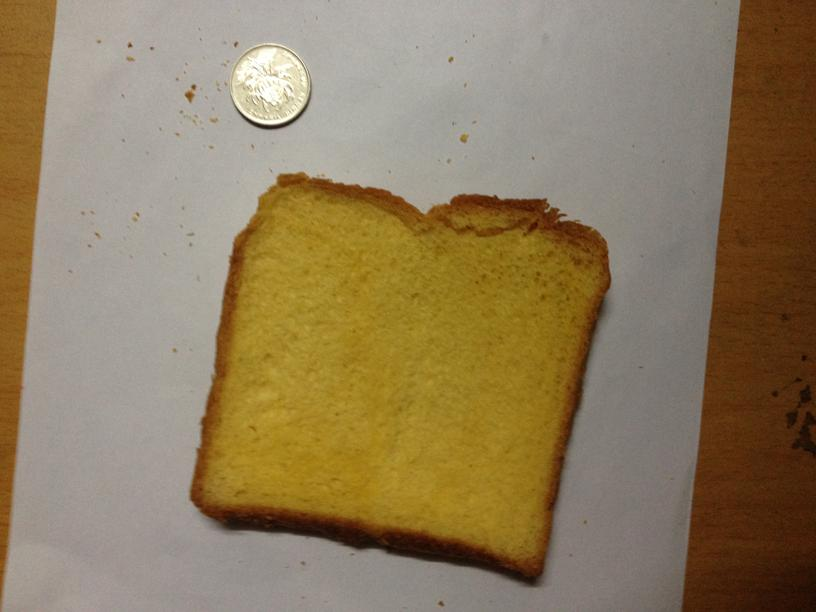bread: (178, 166, 610, 575)
coin: (227, 45, 311, 128)
